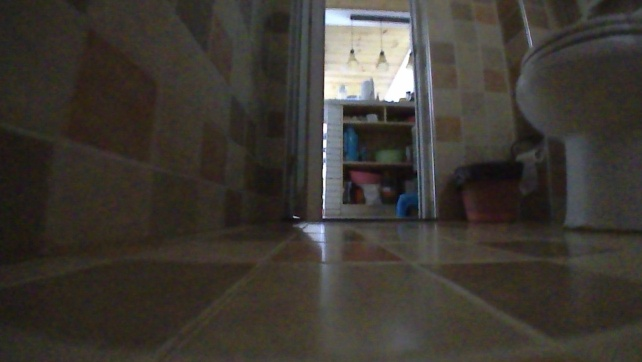toilet: (508, 7, 641, 236)
